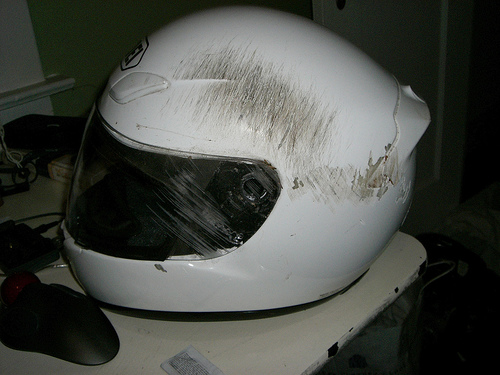helmet: (82, 27, 426, 297)
